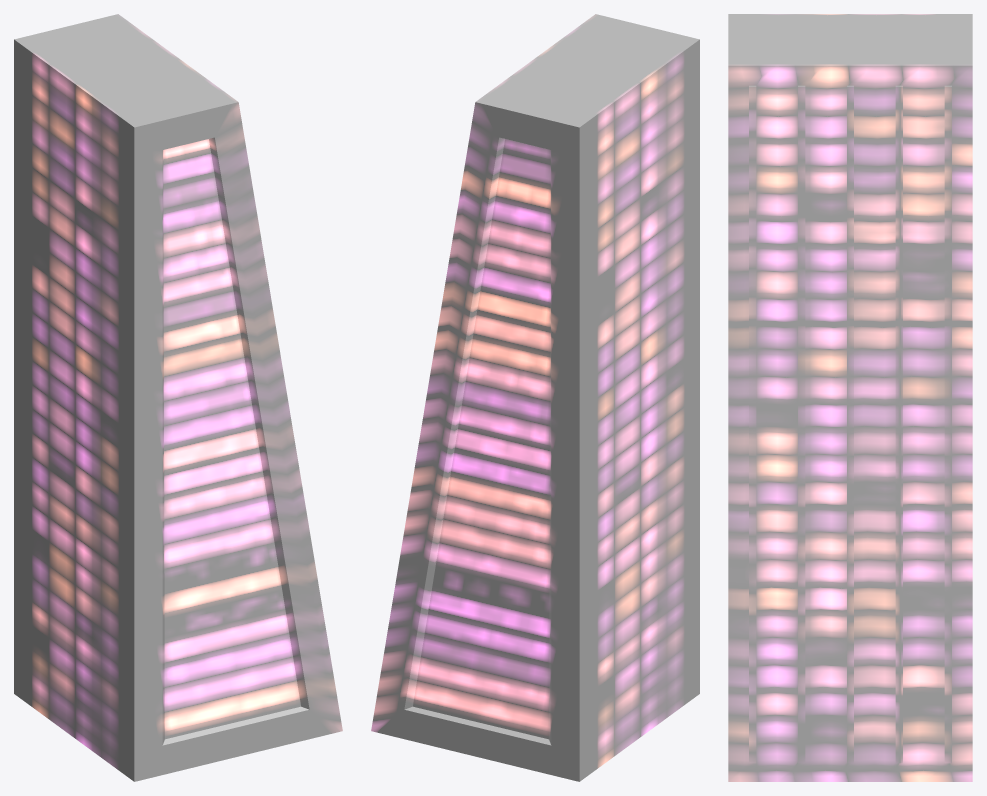
Rendered from BuildingSlanted.fbx.
3 renders of one model, left to right at view 1: azimuth 30°, elevation 25°; view 2: azimuth 150°, elevation 25°; view 3: azimuth 270°, elevation 25°, orthographic.
Parts seen in each view (by area): view 1: BuildingSlanted; view 2: BuildingSlanted; view 3: BuildingSlanted.
Boxes of the visible parts, x1,y1,x2,y2 form: BuildingSlanted: (14,14,342,781); BuildingSlanted: (371,14,699,781); BuildingSlanted: (728,14,972,781).
Size of the model in its own units: 201 by 600 by 200.
